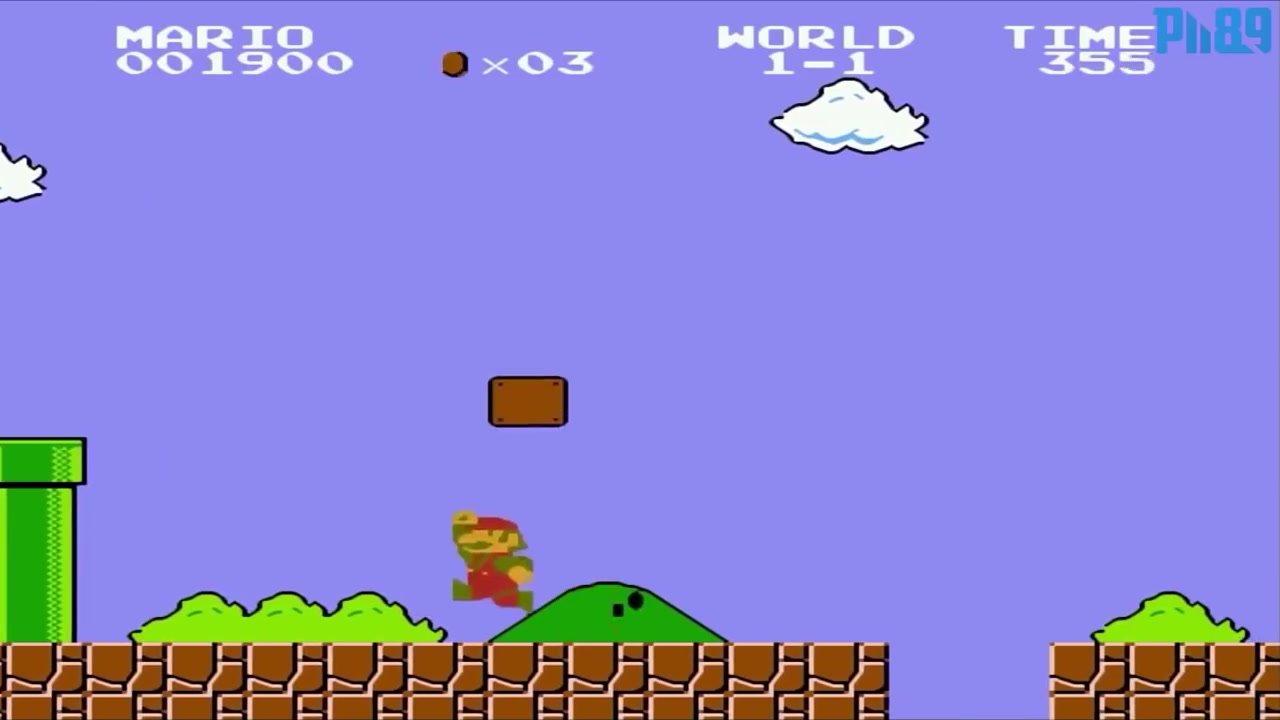mario: (431, 502, 547, 619)
